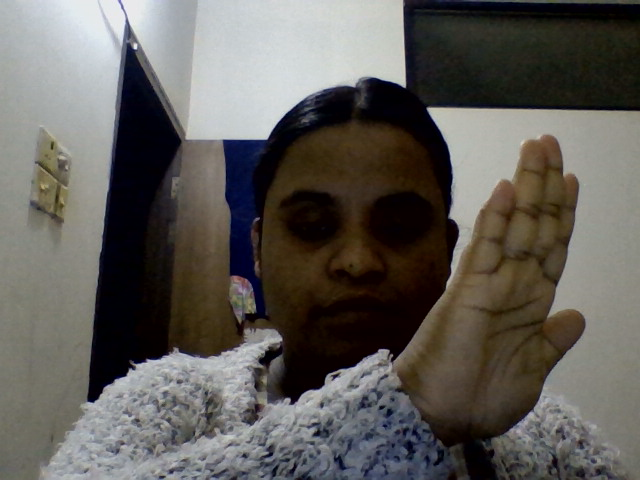hello: (392, 125, 624, 443)
